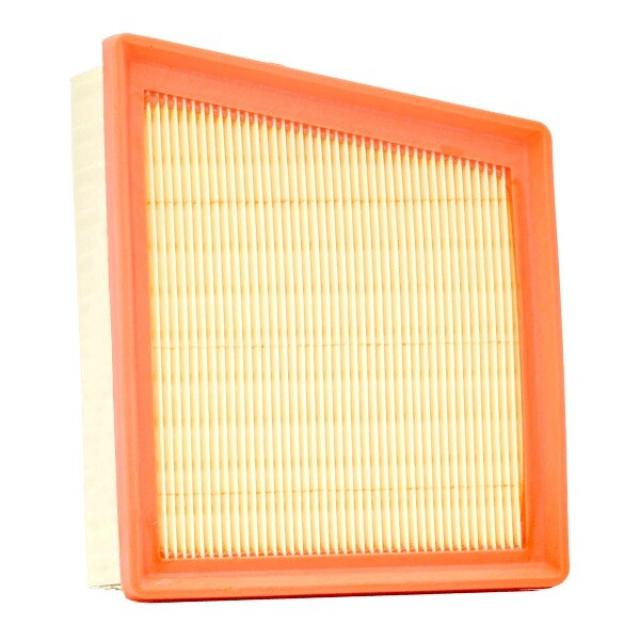air_filter: (67, 28, 583, 610)
